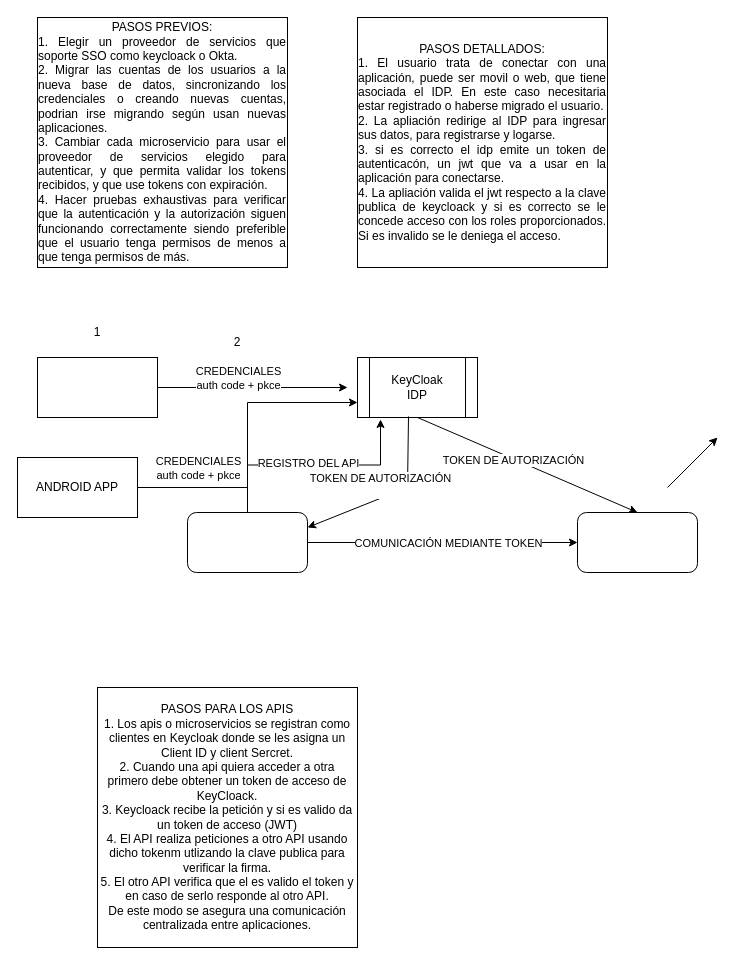
Image size: 743x965. Some labels were removed from this diagram. The shapes that lost their labels are listed below. From the top down, each one's centre as x and y in pixels, then its label:
At point 97,387: "PORTAL WEB".
At point 247,542: "API 1".
At point 637,542: "API 2".
